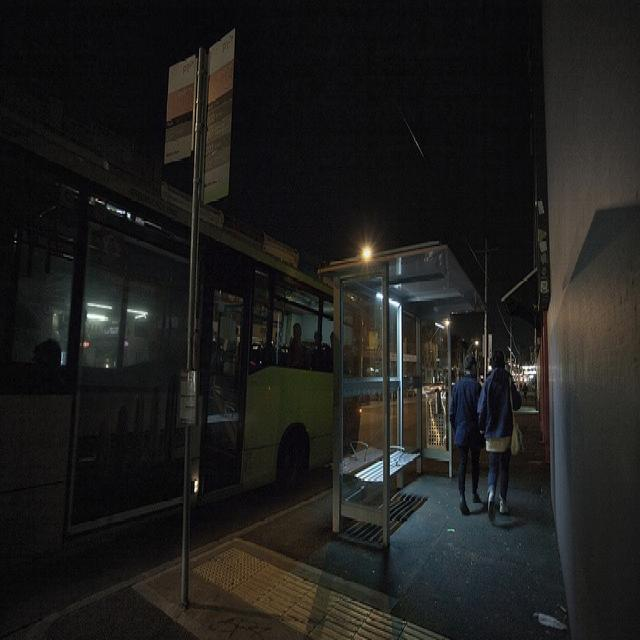Bus: (0, 191, 372, 609)
People: (453, 325, 494, 537), (485, 335, 531, 508)
chair: (349, 409, 435, 581)
